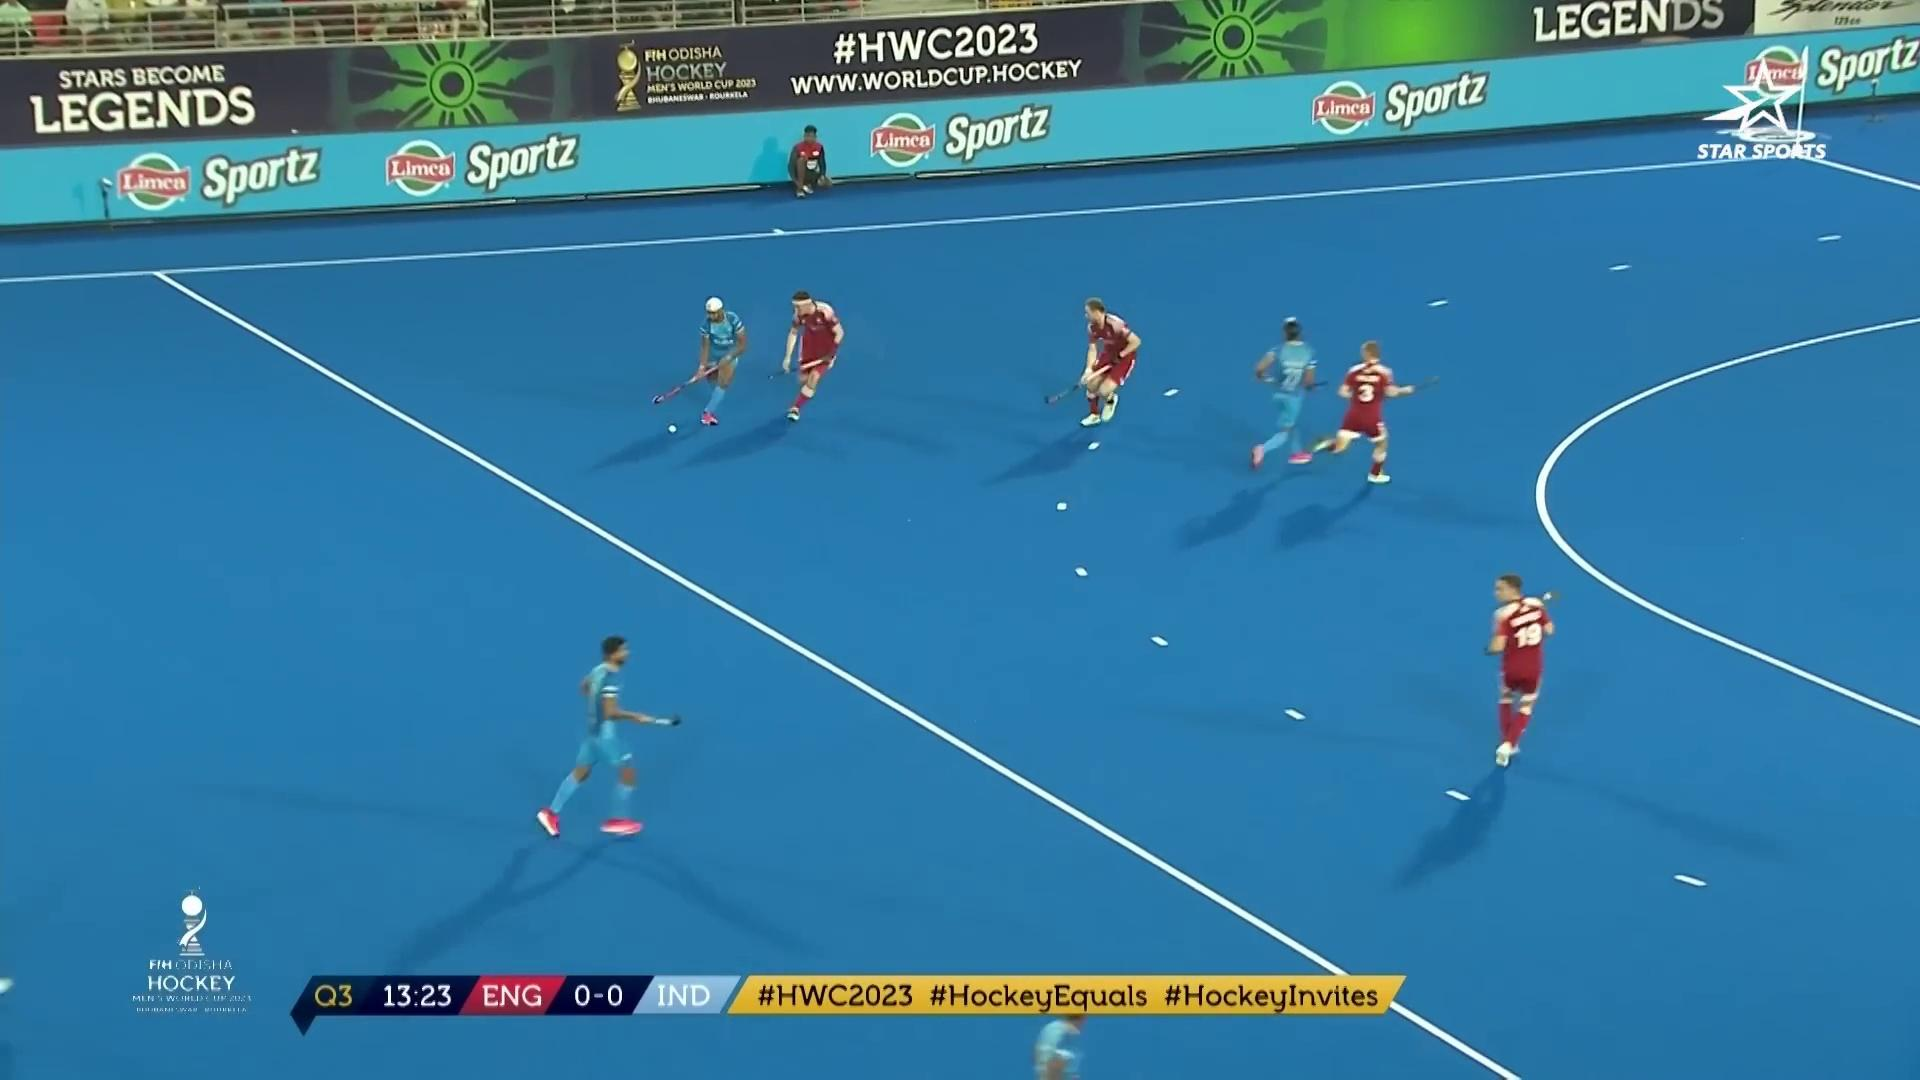ball: (666, 411, 683, 438)
